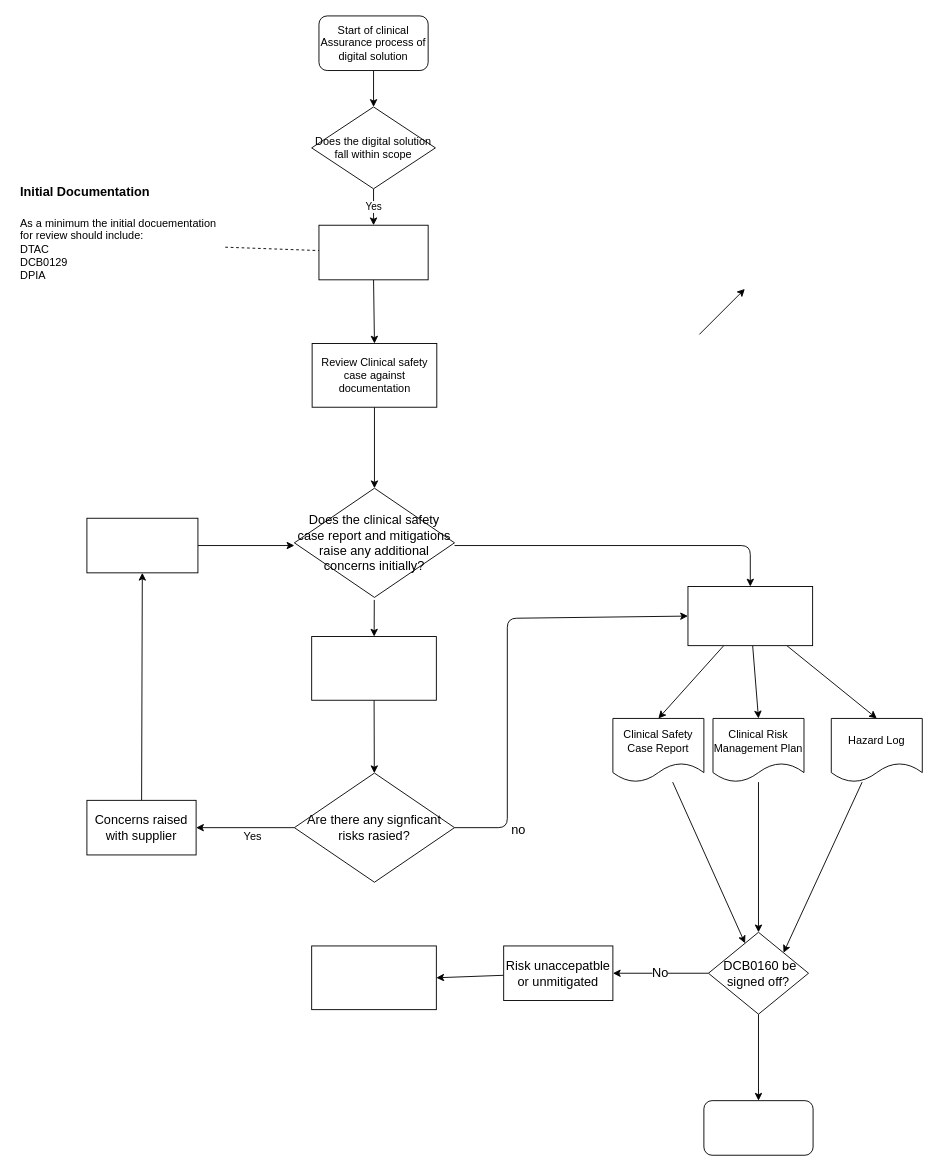
The diagram is 938 pixels wide and 1171 high, and some of its shapes have lost their labels. The shapes that lost their labels are listed below. From the top down, each one's box as (x1, y1, x2, y2) in pixels, then its label:
(318, 224, 428, 280): Gather Documentation
(687, 586, 813, 646): Carry out risk assessment based on DCB0160
(311, 636, 436, 700): Re-evaulate the risk acceptability based on assessment
(311, 945, 436, 1010): Further CSA required External support maybe required
(703, 1100, 813, 1155): Completed CSA
